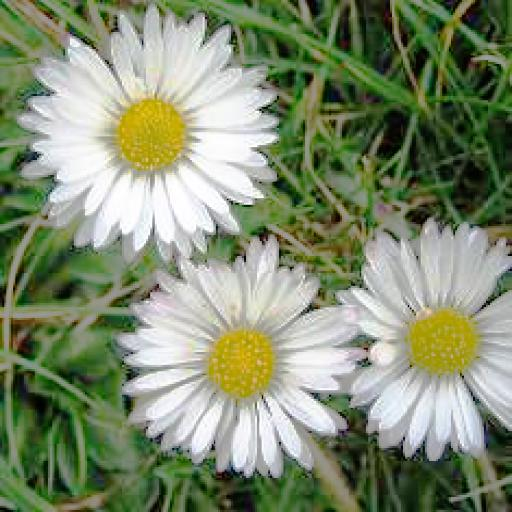daisy: (33, 15, 272, 243), (131, 252, 344, 476), (337, 234, 512, 450)
